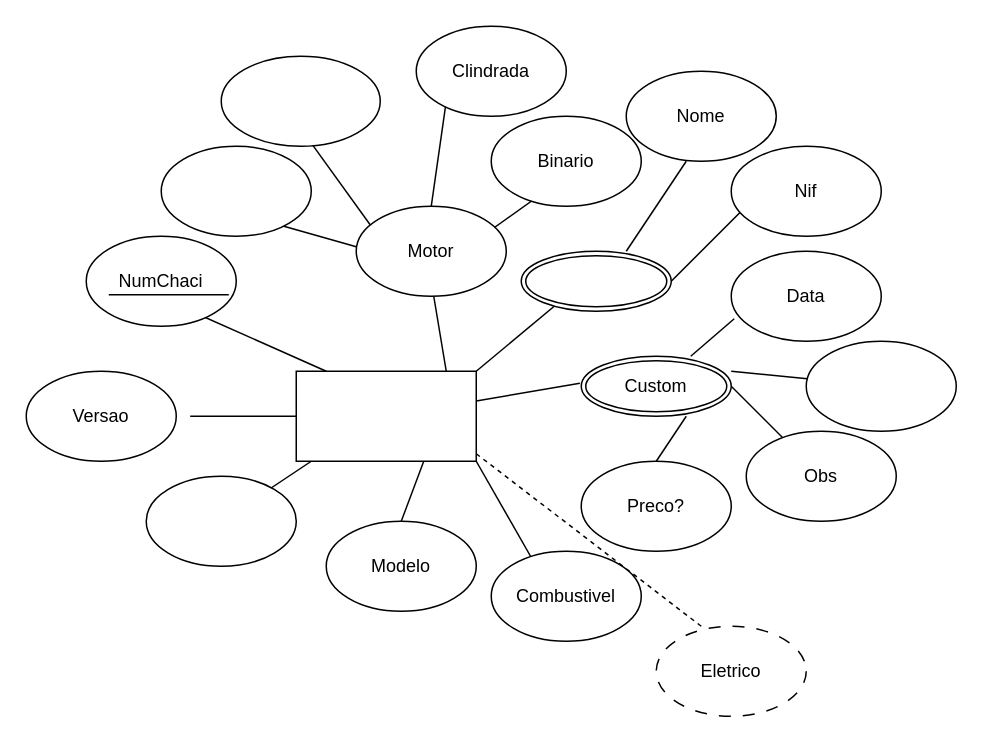
Image size: 983x743. Some labels were removed from this diagram. Here are the shapes that lost their labels. From the top down, the centre of each, then its label:
point 300,100: Cv
point 235,190: Turbo?
point 595,280: Dono
point 880,385: Tipo
point 385,415: Carro
point 220,520: Marca
